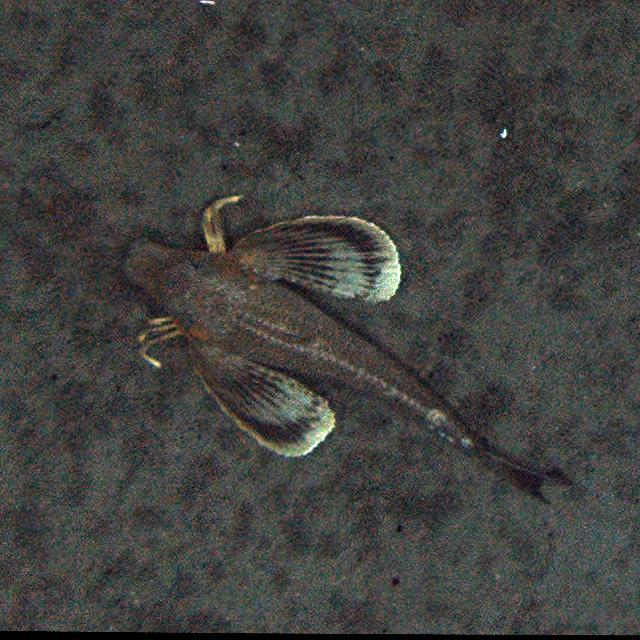roundfish: (116, 194, 572, 511)
